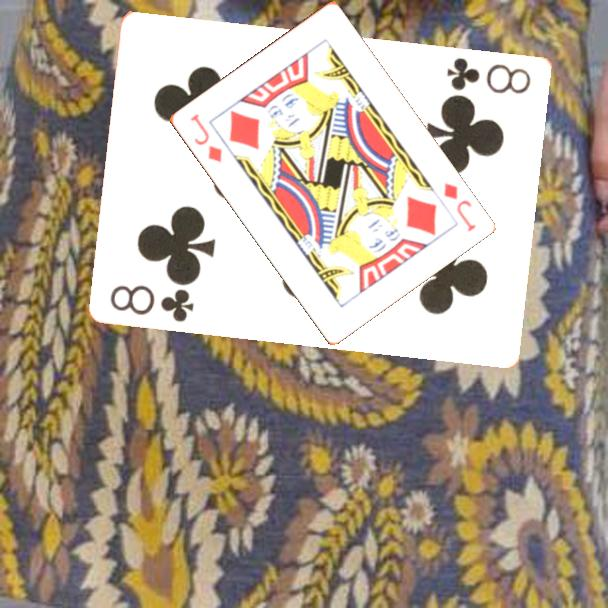c08: (107, 281, 197, 325), (444, 54, 534, 97)
d11: (440, 179, 479, 235), (186, 110, 225, 165)
